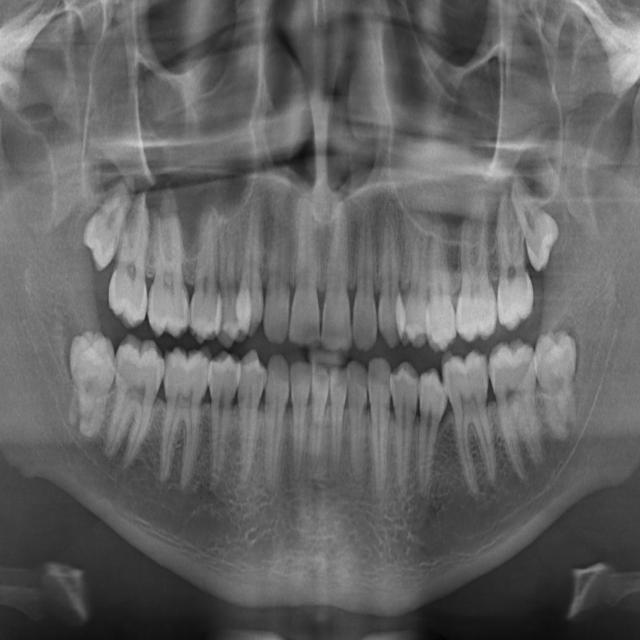3M ESPE Implant: (71, 167, 142, 277)
AGS Medikal Implant: (350, 188, 381, 355)
AMerOss Implant: (378, 188, 401, 350)
Amalgam filling: (397, 210, 433, 351)
Anthogyr Implant: (426, 210, 461, 356)
Bicon Implant: (452, 195, 497, 345)
BioHorizons Implant: (494, 184, 536, 338)
BioLife Implant: (508, 163, 570, 276)
Biomet 3i Implant: (535, 323, 582, 445)
Blue Sky Bio Implant: (486, 336, 549, 491)
Camlog Implant: (438, 346, 504, 507)
Caries: (105, 188, 156, 332)
Composite filling: (415, 367, 449, 509)
Cowellmedi Implant: (391, 360, 422, 503)
Crown: (367, 356, 392, 498)
DENTSPLY Implant: (347, 359, 368, 486)
Dentatus Implant: (326, 361, 348, 487)
Dentis Implant: (298, 361, 333, 481)
Dentium Implant: (284, 359, 310, 489)
Euroteknika Implant: (258, 350, 291, 501)
Filling: (228, 347, 266, 491)
Frontier Implant: (198, 348, 240, 498)
Hiossen Implant: (145, 207, 194, 341)
Implant: (131, 420, 131, 421)
Implant Direct: (151, 341, 213, 498)
Keystone Dental Implant: (67, 327, 116, 443)
MIS Implant: (188, 201, 218, 346)
Maxilla: (235, 187, 264, 343)
Megagen Implant: (261, 187, 294, 350)
Neodent Implant: (288, 185, 323, 352)
Neoss Implant: (320, 187, 355, 353)
